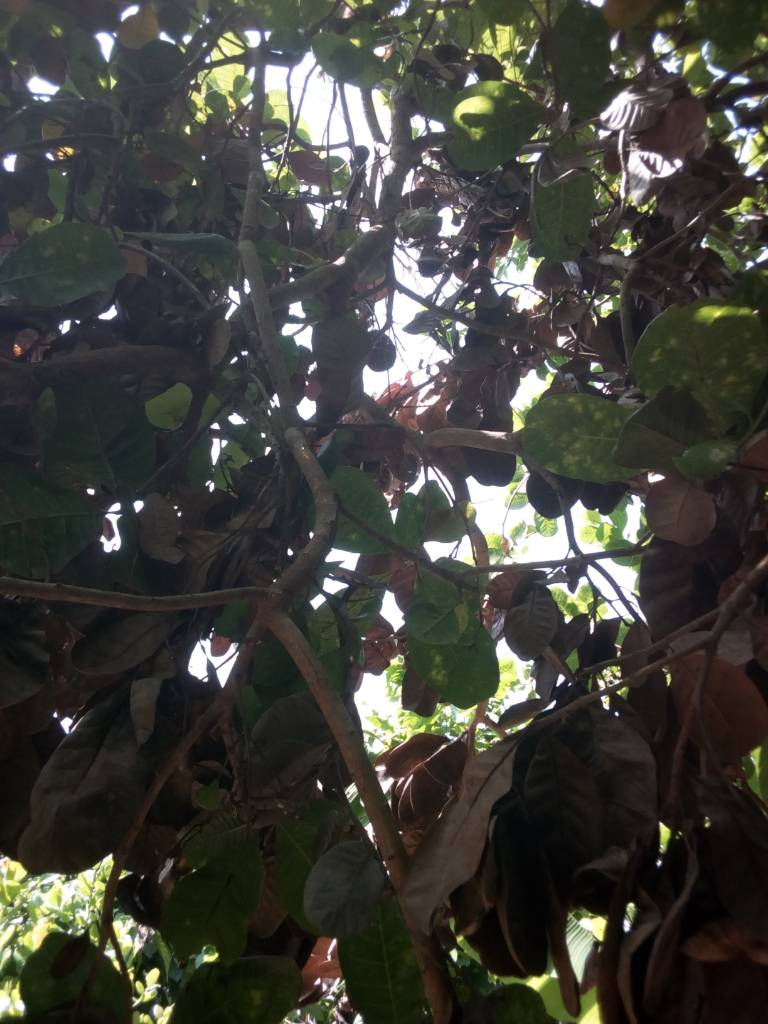Dessèchement des bourgeons: (394, 28, 514, 105)
